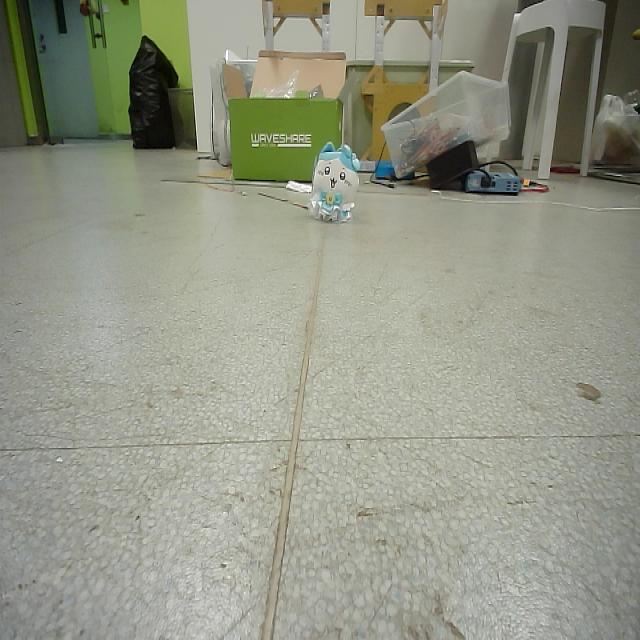xiaoba: (312, 139, 360, 222)
